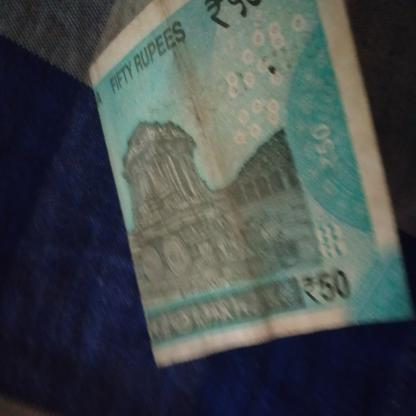New50Back: (111, 0, 381, 327)
